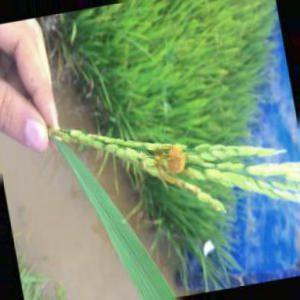Leaf_Scald: (164, 144, 195, 174)
